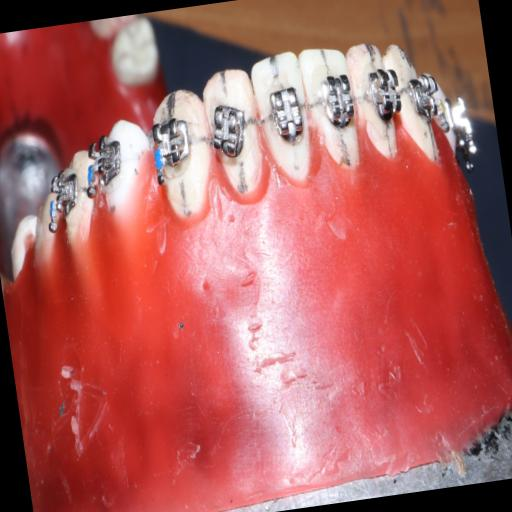correct_brace: (204, 94, 254, 169), (264, 79, 308, 150)
incorrect_brace: (195, 58, 270, 208)
